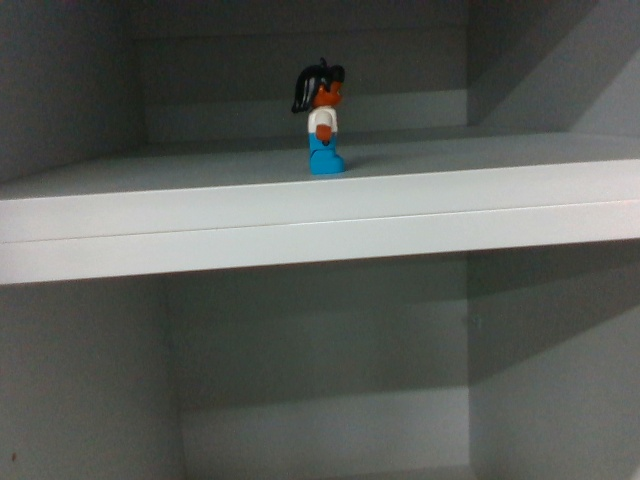people: (290, 59, 350, 181)
